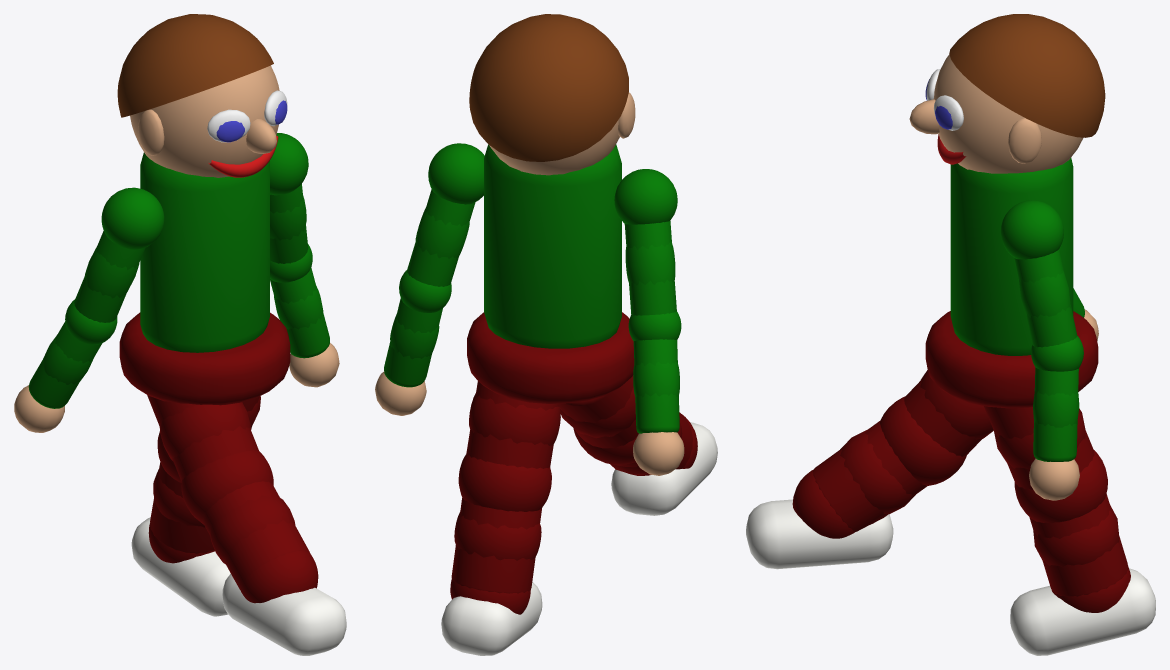
3 views of the same model, side by side, from view 1: azimuth 30°, elevation 25°; view 2: azimuth 150°, elevation 25°; view 3: azimuth 270°, elevation 25° (orthographic).
Parts seen in each view (by area): view 1: torso, hair, pelvis, head, shoe_f, shoe_n, shin_f, knee_ball_f, shoulder_ball_f, thigh_bulge_f, ankle_ball_f, thigh_f (+21 smaller); view 2: torso, hair, pelvis, shoe_n, shin_n, shoe_f, knee_ball_n, thigh_bulge_n, shoulder_ball_f, shoulder_ball_n, thigh_n, shin_bulge_n (+19 smaller); view 3: torso, hair, pelvis, head, shoe_n, shoe_f, shin_f, shin_n, knee_ball_f, shoulder_ball_n, knee_ball_n, shin_bulge_f (+15 smaller).
Part boxes in pixels (box(x1,y1,x2,y2)): torso: box(140, 152, 269, 352); hair: box(117, 14, 273, 117); pelvis: box(119, 312, 290, 405); head: box(130, 65, 279, 177); shoe_f: box(222, 574, 346, 655); shoe_n: box(131, 517, 230, 616); shin_f: box(202, 481, 310, 590); knee_ball_f: box(181, 450, 273, 524); shoulder_ball_f: box(101, 187, 164, 249); thigh_bulge_f: box(159, 402, 250, 460); ankle_ball_f: box(240, 550, 318, 603); thigh_f: box(147, 395, 258, 481); torso: box(484, 144, 621, 348); hair: box(469, 14, 628, 161); pelvis: box(467, 312, 634, 403); shoe_n: box(441, 582, 542, 655); shin_n: box(451, 497, 541, 593); shoe_f: box(611, 422, 717, 515); knee_ball_n: box(458, 454, 551, 511); thigh_bulge_n: box(469, 393, 560, 445); shoulder_ball_f: box(614, 169, 677, 224); shoulder_ball_n: box(428, 143, 484, 204); thigh_n: box(466, 381, 559, 468); shin_bulge_n: box(454, 512, 541, 560); torso: box(950, 157, 1073, 355); hair: box(949, 14, 1105, 137); pelvis: box(925, 311, 1098, 408); head: box(933, 54, 1083, 173); shoe_n: box(1010, 568, 1155, 655); shoe_f: box(746, 499, 893, 569); shin_f: box(813, 421, 927, 531); shin_n: box(1029, 494, 1128, 596); knee_ball_f: box(880, 396, 966, 485); shoulder_ball_n: box(1000, 200, 1063, 259); knee_ball_n: box(1014, 450, 1107, 523); shin_bulge_f: box(840, 429, 915, 514).
Size of the model in its own units: 0.7838 by 1.47 by 0.8901.
